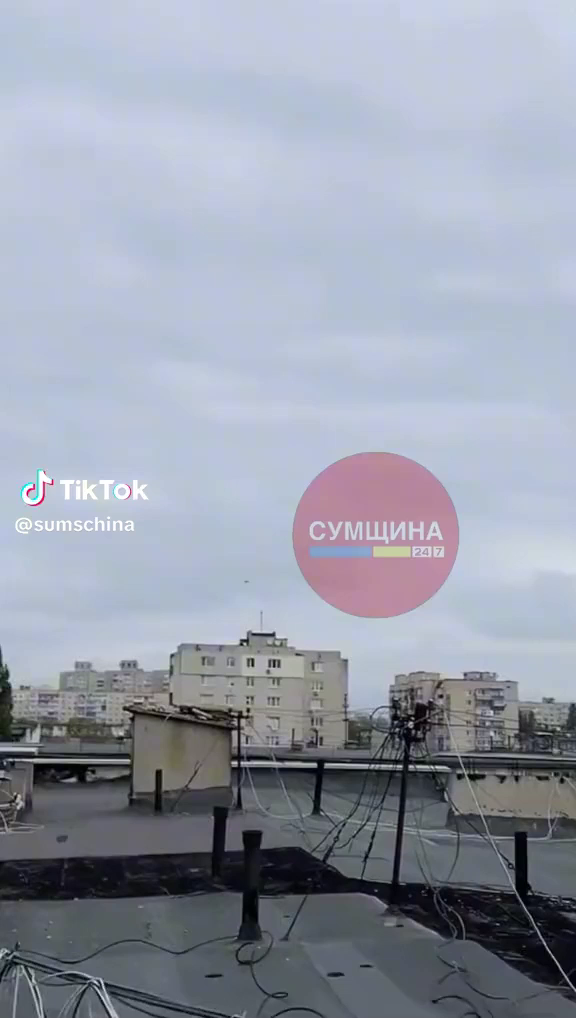shahed: (245, 579, 252, 586)
